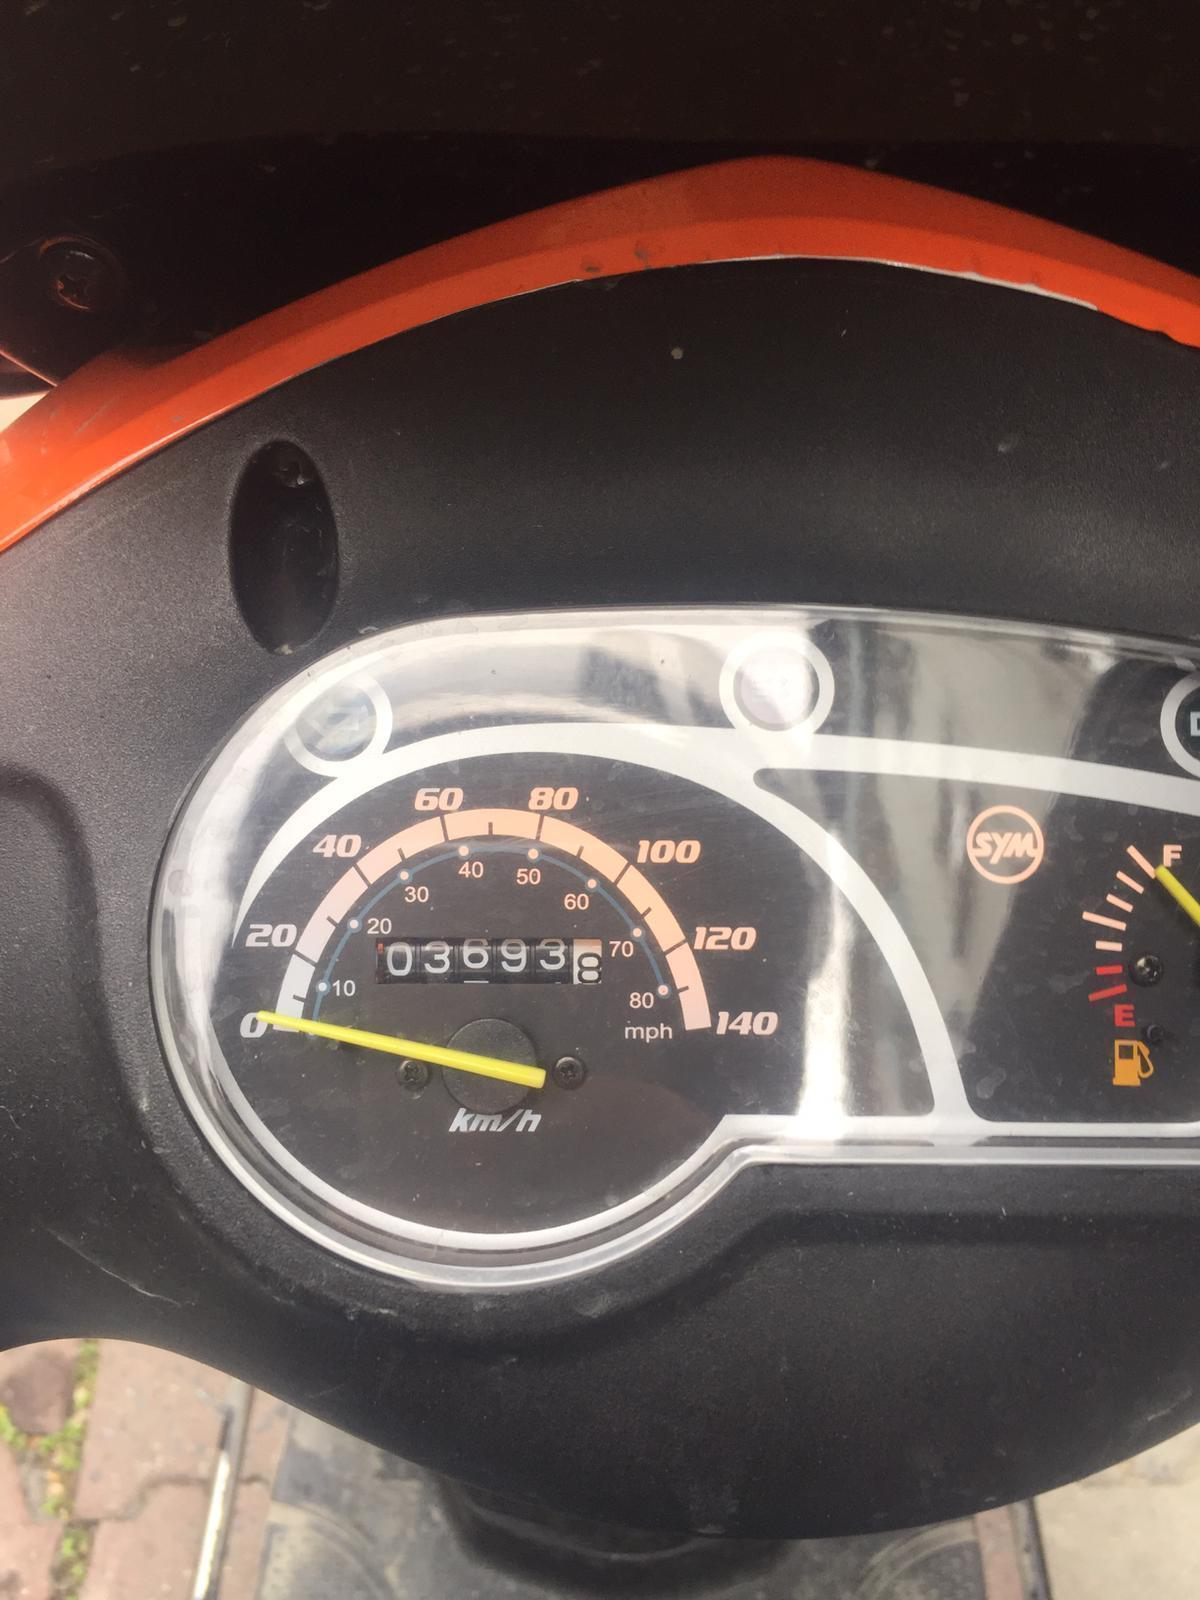0: (386, 940, 413, 976)
3: (424, 939, 451, 974), (538, 939, 566, 971)
6: (463, 936, 489, 969)
8: (576, 951, 603, 983)
9: (500, 937, 527, 973)
odometer: (367, 931, 605, 986)
